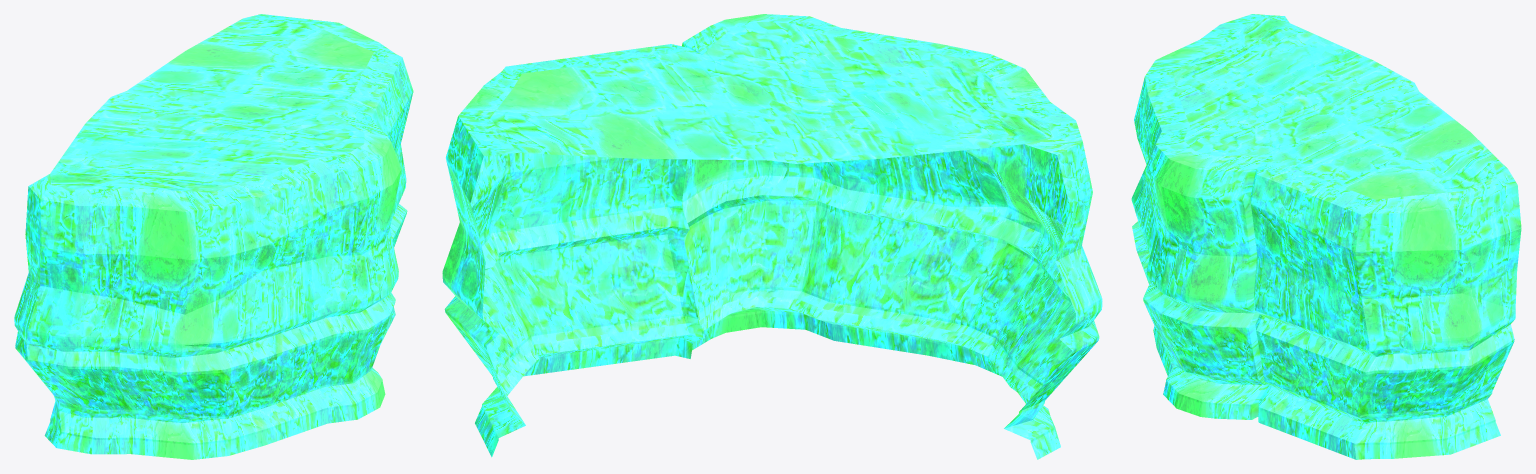
File: RockA.fbx
The picture shows the model from 3 angles, left to right: view 1: azimuth 30°, elevation 25°; view 2: azimuth 150°, elevation 25°; view 3: azimuth 270°, elevation 25°; orthographic projection. The views are drawn at different scales.
Visible parts, largest first — view 1: HL_Cliff_Rock_A.mo; view 2: HL_Cliff_Rock_A.mo; view 3: HL_Cliff_Rock_A.mo.
Part boxes in pixels (box(x1,y1,x2,y2)): HL_Cliff_Rock_A.mo: box(14, 14, 413, 459); HL_Cliff_Rock_A.mo: box(442, 14, 1102, 459); HL_Cliff_Rock_A.mo: box(1131, 14, 1521, 459).
Bounding box in the file's own units: 2821 × 1584 × 2200.
